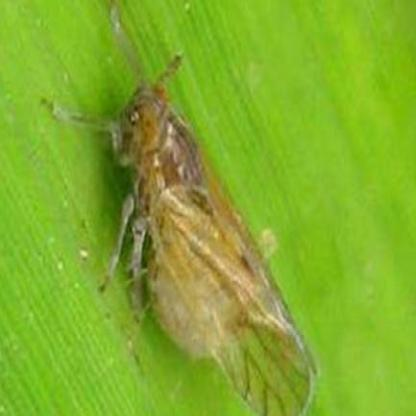brown-planthopper: (105, 64, 317, 416)
